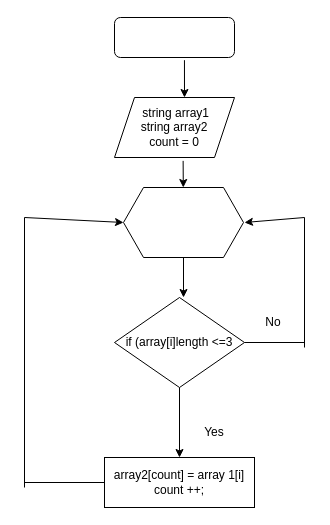
Image size: 330x525. Some labels were removed from this diagram. Here are the shapes that lost their labels. From the top down, the box of each, then its label:
(114, 16, 234, 58): GetSecondArray
(122, 186, 244, 258): for (int i = 0; i<array1.length; i++)
